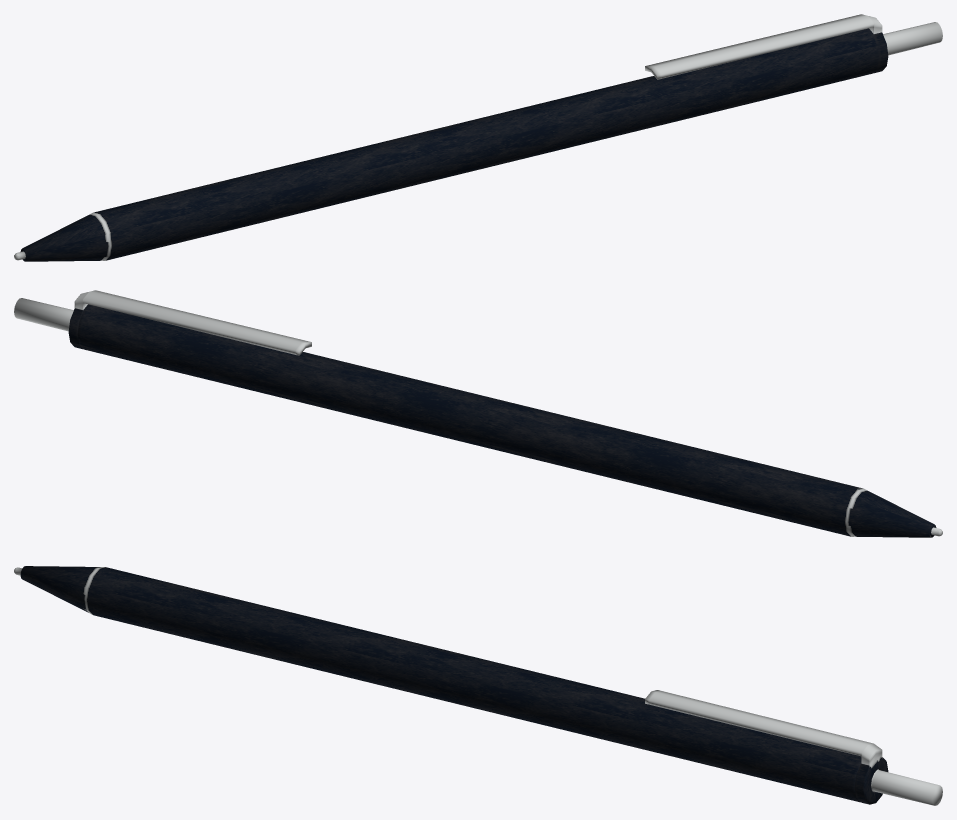
File: pen.obj
3 views of the same model, one above another, from view 1: azimuth 30°, elevation 25°; view 2: azimuth 150°, elevation 25°; view 3: azimuth 330°, elevation 25° (orthographic).
Visible parts, largest first — view 1: pen_01; view 2: pen_01; view 3: pen_01.
Boxes of the visible parts, x1=… form: pen_01: x1=14, y1=14, x2=942, y2=261; pen_01: x1=14, y1=290, x2=942, y2=537; pen_01: x1=14, y1=566, x2=942, y2=805.
Size of the model in its own units: 0.1908 by 0.0112 by 0.00891.
1 material, 1 textured.
